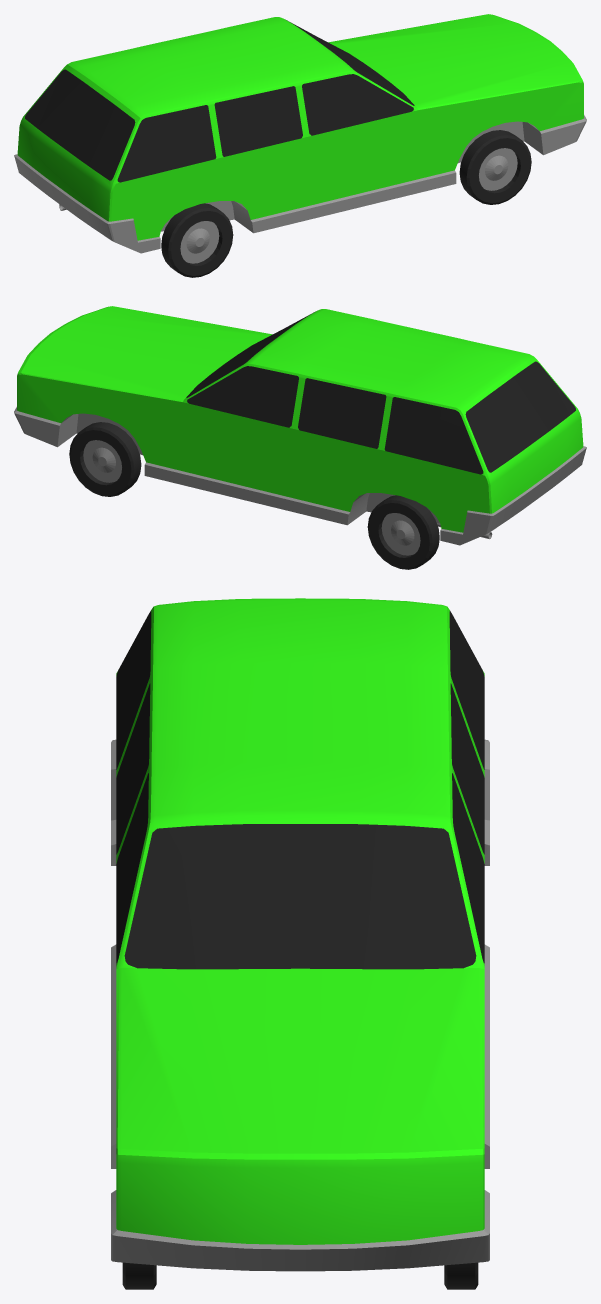
Rendered from Car.DAE.
3 views of the same model, one above another, from view 1: azimuth 30°, elevation 25°; view 2: azimuth 150°, elevation 25°; view 3: azimuth 270°, elevation 25° (orthographic). The views are drawn at different scales.
Visible parts, largest first — view 1: Car_Body, Car_Windows, Car_Chrome, Car_TireFR, Car_TireBR, Car_Chassis, Car_WheelFR, Car_WheelBR; view 2: Car_Body, Car_Windows, Car_Chrome, Car_TireFL, Car_TireBL, Car_Chassis, Car_WheelBL, Car_WheelFL; view 3: Car_Body, Car_Windows, Car_Chrome, Car_TireFL, Car_TireFR.
Part boxes in pixels (box(x1,y1,x2,y2)): Car_Body: box(17, 14, 583, 240); Car_Windows: box(25, 19, 414, 182); Car_Chrome: box(14, 115, 586, 253); Car_TireFR: box(459, 130, 531, 204); Car_TireBR: box(161, 203, 233, 277); Car_Chassis: box(161, 121, 543, 232); Car_WheelFR: box(479, 148, 517, 190); Car_WheelBR: box(180, 221, 219, 263); Car_Body: box(17, 306, 583, 532); Car_Windows: box(186, 311, 575, 474); Car_Chrome: box(14, 407, 586, 545); Car_TireFL: box(69, 422, 141, 496); Car_TireBL: box(367, 495, 439, 569); Car_Chassis: box(57, 413, 439, 524); Car_WheelBL: box(381, 513, 420, 555); Car_WheelFL: box(83, 440, 121, 482); Car_Body: box(116, 598, 484, 1244); Car_Windows: box(116, 611, 484, 969); Car_Chrome: box(111, 739, 489, 1271); Car_TireFL: box(444, 1262, 478, 1289); Car_TireFR: box(122, 1262, 156, 1289).
Bounding box in the file's own units: 222 × 73.38 × 73.36.
